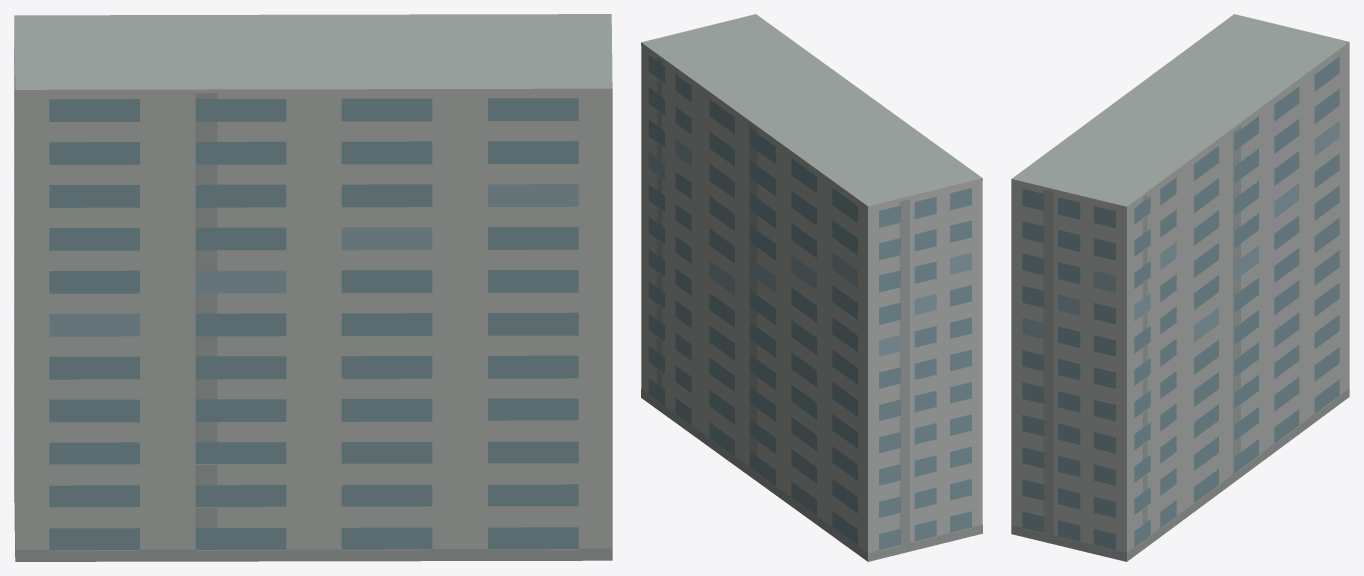
File: residential-75f07cfd-7eb5-4d3e-a73d-c522d9ce0d6d.glb
3 views of the same model, side by side, from view 1: azimuth 30°, elevation 25°; view 2: azimuth 150°, elevation 25°; view 3: azimuth 270°, elevation 25° (orthographic). The views are drawn at different scales.
Visible parts, largest first — view 1: residential-75f07cfd-7eb5-4d3e-a73d-c522d9ce0d6d.tmp; view 2: residential-75f07cfd-7eb5-4d3e-a73d-c522d9ce0d6d.tmp; view 3: residential-75f07cfd-7eb5-4d3e-a73d-c522d9ce0d6d.tmp.
Boxes of the visible parts, left/top/right/bottom form: residential-75f07cfd-7eb5-4d3e-a73d-c522d9ce0d6d.tmp: left=14, top=14, right=612, bottom=561; residential-75f07cfd-7eb5-4d3e-a73d-c522d9ce0d6d.tmp: left=641, top=14, right=982, bottom=561; residential-75f07cfd-7eb5-4d3e-a73d-c522d9ce0d6d.tmp: left=1011, top=14, right=1349, bottom=561.
Bounding box in the file's own units: 33.76 × 29 × 25.02.
